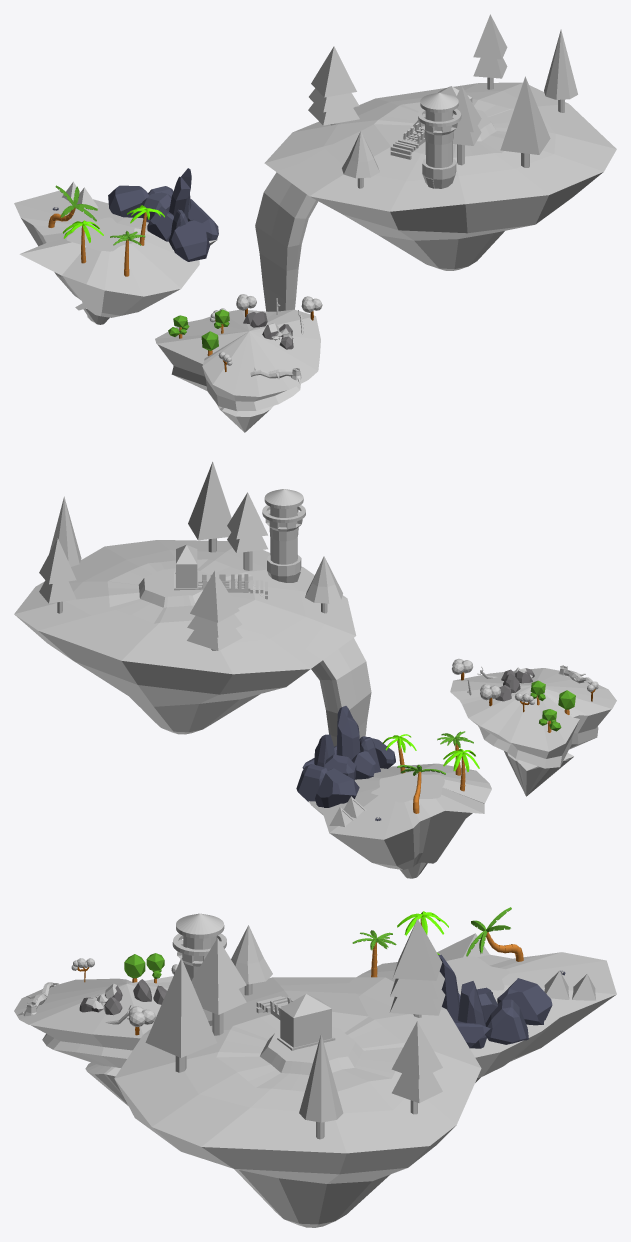
The model's file is floating island1.fbx.
The picture shows the model from 3 angles, top to bottom: view 1: azimuth 30°, elevation 25°; view 2: azimuth 150°, elevation 25°; view 3: azimuth 270°, elevation 25°; orthographic projection. The views are drawn at different scales.
Visible parts, largest first — view 1: Island 2, Island 1, Island 3, Lighthouse, Pine .001, Pine.004, Pine .002, Pine, ROCK 20, pine .003, Pine 9, Rock 15 (+4 smaller); view 2: Island 2, Island 1, Island 3, Lighthouse, Pine .001, Pine.004, pine .003, Pine .002, Rock 15, Pine 9, Rock 9, House (+3 smaller); view 3: Island 2, Island 1, Island 3, Pine.004, Pine .001, pine .003, Pine .002, House, Pine, Lighthouse, ROCK 5, Rock 15 (+12 smaller).
Boxes of the visible parts, x1,y1,x2,y2 form: Island 2: [255, 82, 616, 311]; Island 1: [14, 190, 217, 324]; Island 3: [155, 309, 320, 432]; Lighthouse: [417, 92, 461, 188]; Pine .001: [308, 46, 359, 125]; Pine.004: [500, 76, 550, 167]; Pine .002: [473, 14, 507, 89]; Pine: [544, 29, 577, 112]; ROCK 20: [171, 220, 209, 261]; pine .003: [453, 86, 481, 165]; Pine 9: [342, 131, 379, 188]; Rock 15: [108, 185, 149, 217]; Island 2: [14, 540, 371, 746]; Island 1: [308, 763, 491, 878]; Island 3: [450, 668, 616, 796]; Lighthouse: [262, 489, 305, 582]; Pine .001: [187, 570, 242, 650]; Pine.004: [188, 461, 231, 552]; pine .003: [227, 492, 267, 570]; Pine .002: [39, 538, 76, 613]; Rock 15: [315, 768, 359, 807]; Pine 9: [305, 556, 342, 613]; Rock 9: [336, 706, 360, 759]; House: [174, 545, 197, 590]; Island 2: [114, 977, 481, 1227]; Island 1: [356, 933, 616, 1082]; Island 3: [14, 976, 173, 1105]; Pine.004: [145, 958, 216, 1072]; Pine .001: [389, 918, 445, 1017]; pine .003: [191, 938, 246, 1035]; Pine .002: [391, 1021, 442, 1114]; House: [277, 994, 335, 1050]; Pine: [299, 1034, 343, 1139]; Lighthouse: [172, 913, 226, 1025]; ROCK 5: [485, 999, 528, 1044]; Rock 15: [497, 978, 552, 1025].
Bounding box in the file's own units: 8998 × 4711 × 7561.
